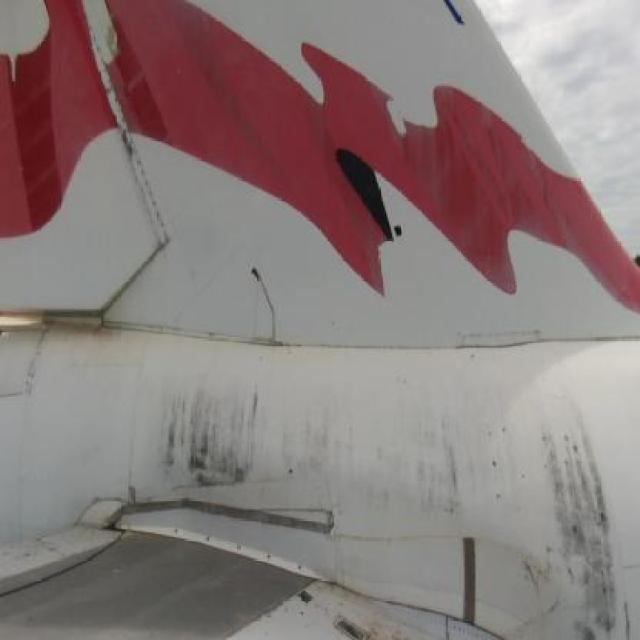Missing-Rivet: (168, 520, 310, 583), (91, 34, 124, 135), (456, 320, 550, 352), (124, 120, 154, 206), (147, 188, 173, 242), (448, 624, 477, 640)
Rust: (276, 389, 536, 540), (539, 406, 633, 640), (150, 365, 275, 504), (113, 116, 150, 182)
Scartch: (508, 531, 584, 634)
